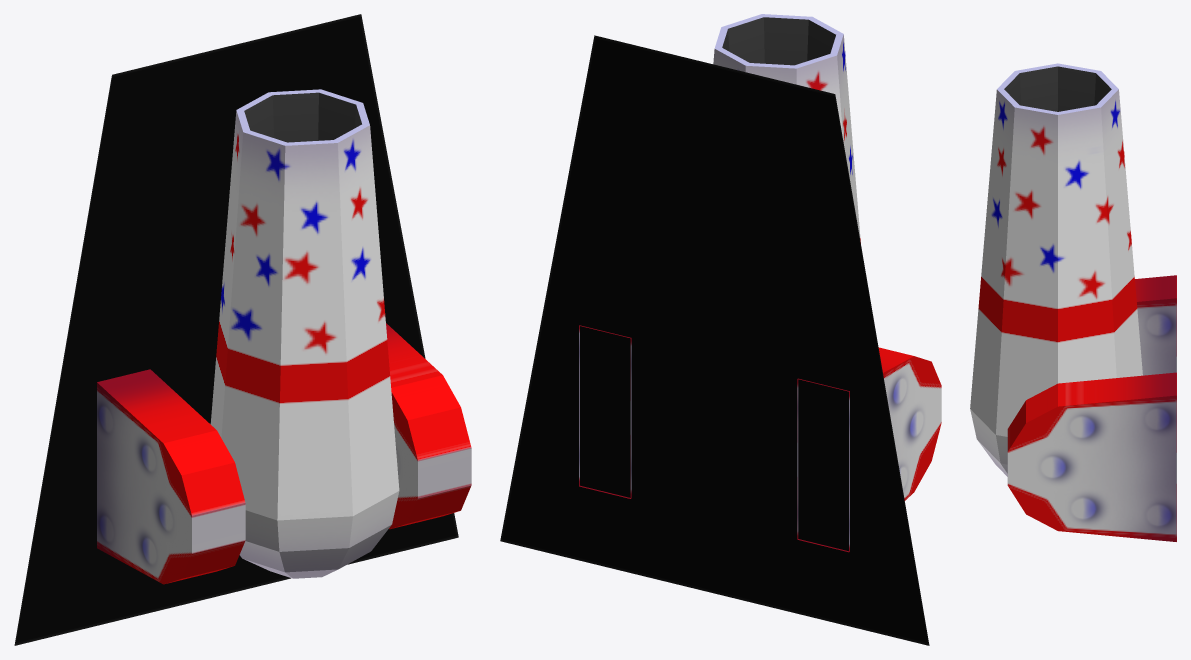
File: cannon.fbx
3 renders of one model, left to right at view 1: azimuth 30°, elevation 25°; view 2: azimuth 150°, elevation 25°; view 3: azimuth 270°, elevation 25°, orthographic. The views are drawn at different scales.
Parts seen in each view (by area): view 1: o1, cannon, o4, o4_1; view 2: o1, cannon, o4, o4_1; view 3: cannon, o4_1, o4.
Part boxes in pixels (<box>): o1: <box>14,14,458,645</box>; cannon: <box>210,89,399,578</box>; o4: <box>97,369,245,584</box>; o4_1: <box>386,323,471,529</box>; o1: <box>500,35,929,645</box>; cannon: <box>713,14,860,243</box>; o4: <box>797,347,941,552</box>; o4_1: <box>579,325,631,498</box>; cannon: <box>970,63,1142,476</box>; o4_1: <box>1007,372,1176,541</box>; o4: <box>1135,275,1176,375</box>.
Size of the model in its own units: 220 by 259 by 101.
Materials: 4 (3 with a texture image).
